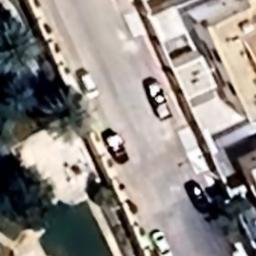pickup: (141, 78, 177, 123)
sedan: (183, 174, 215, 216), (148, 228, 174, 256)
truck: (96, 126, 134, 166)
van: (73, 66, 99, 102)
